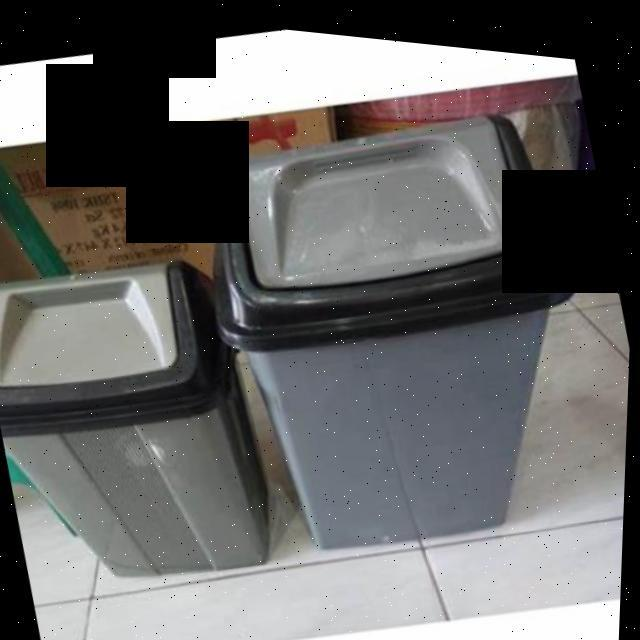bin: (174, 46, 627, 592), (0, 214, 277, 619)
